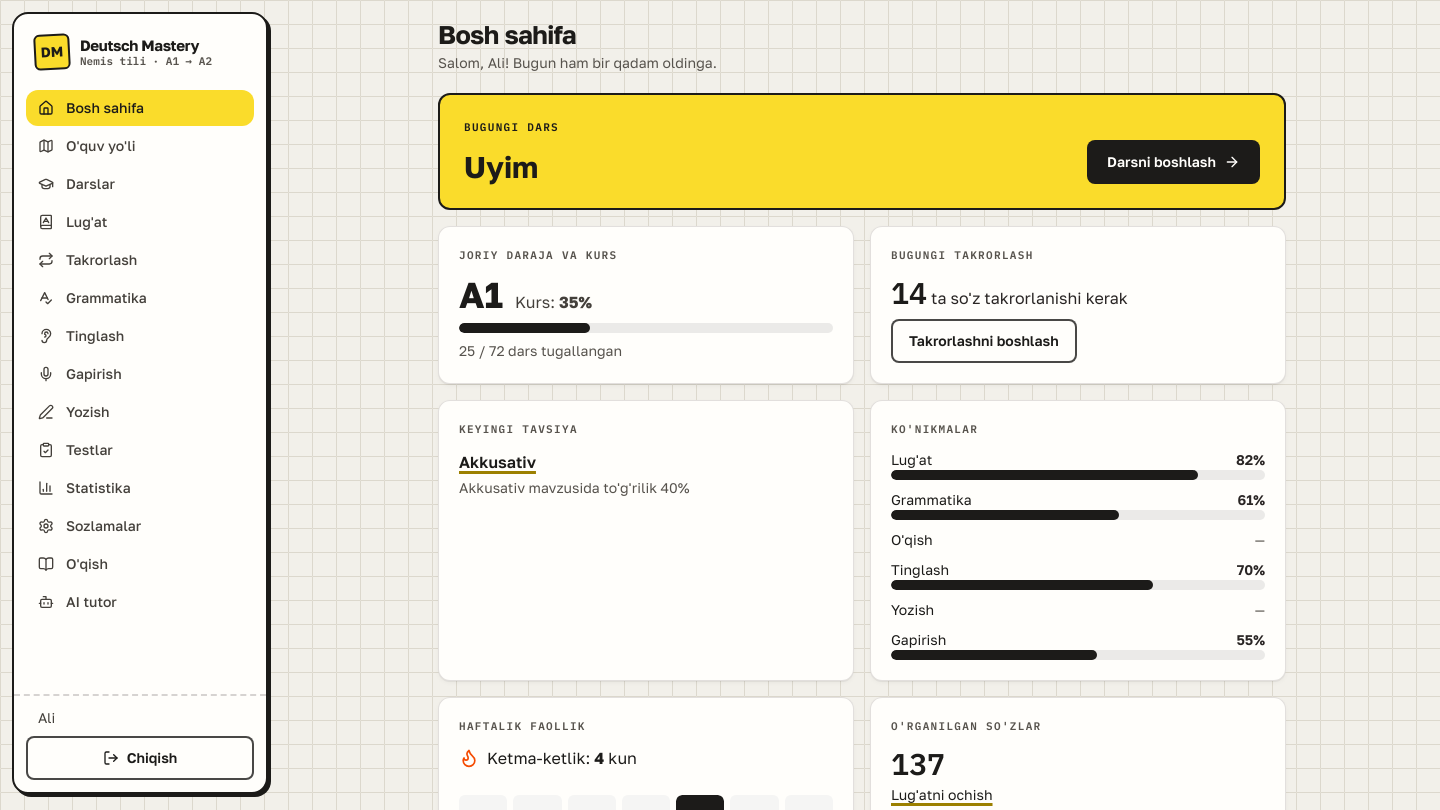
Test case: navigation and guards › shows the 12 main sections in the sidebar and navigates between pages
Expected: the link "Bosh sahifa" is shown, [38,99,144,116]
Expected: the link "O'quv yo'li" is shown, [38,137,136,154]
Click the link "Lug'at" at (73,222), box [38,213,108,230]
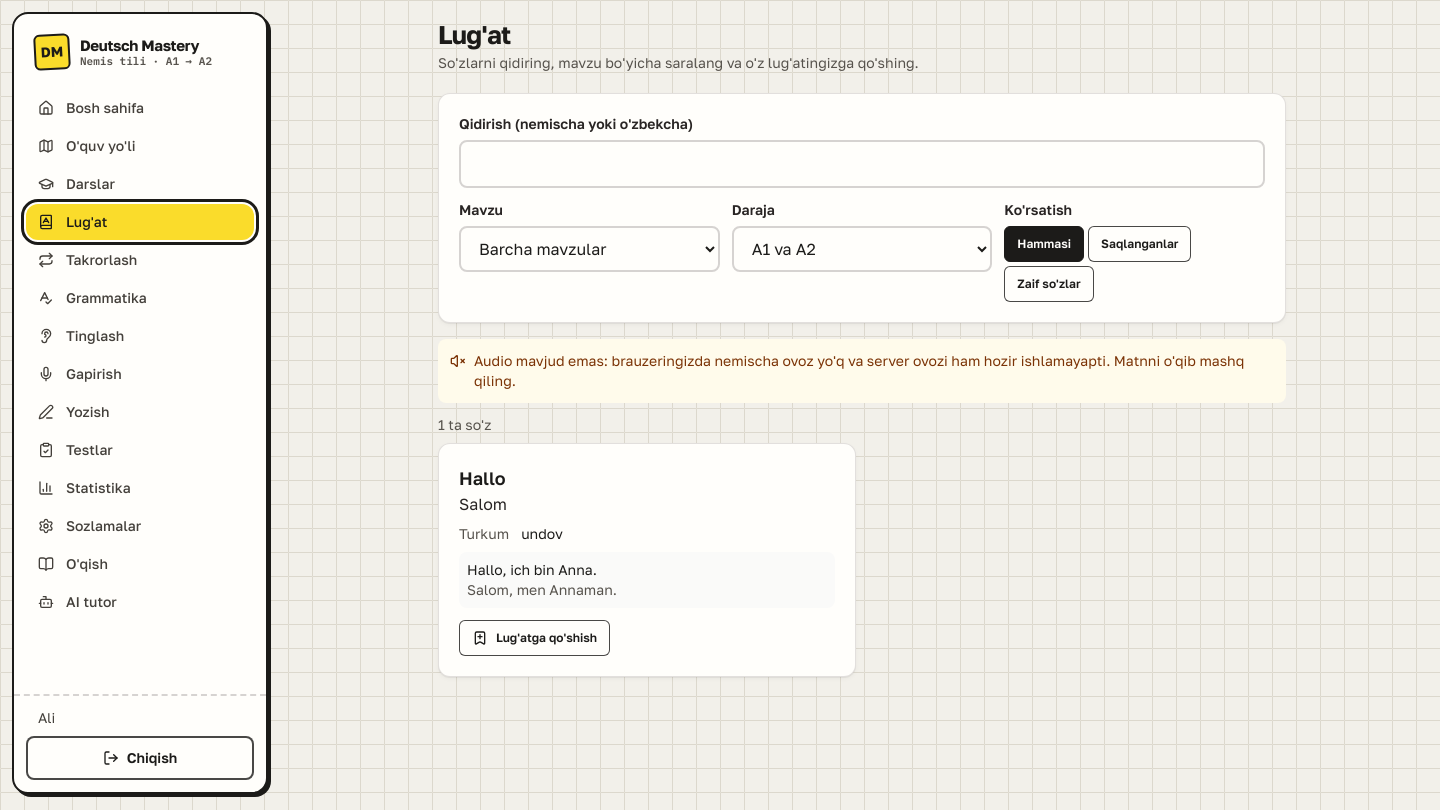
Expected: the heading "Hallo" is shown, [459,464,507,492]
